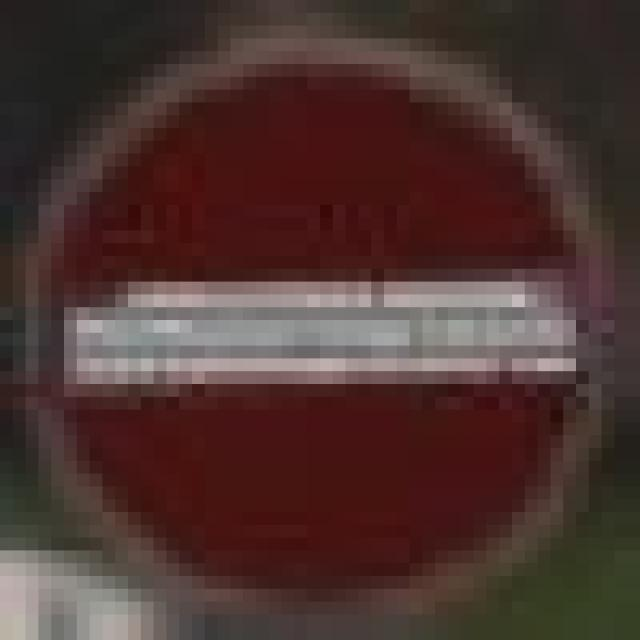NO_ENTRY: (0, 12, 614, 627)
